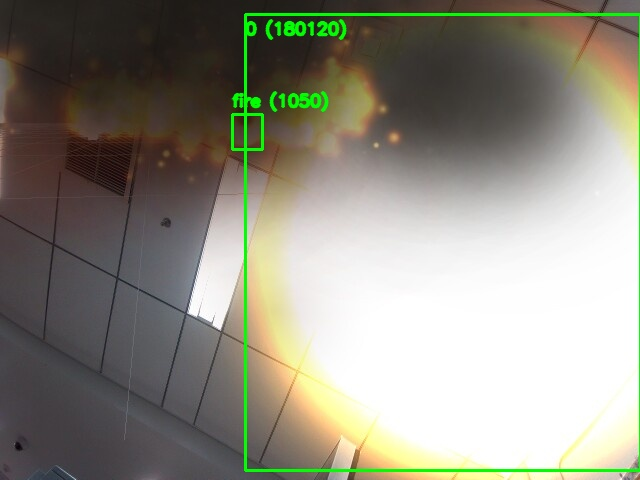0: (245, 14, 640, 470)
fire: (232, 114, 262, 149)
